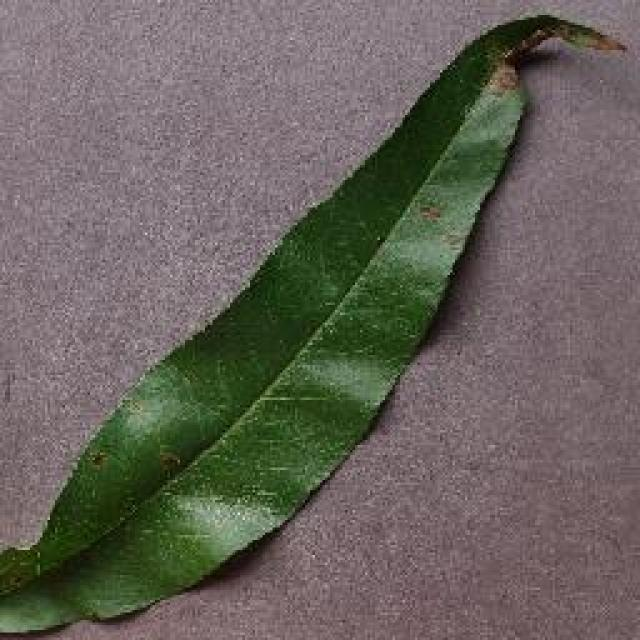Bacterial_spot: (486, 34, 550, 89), (82, 449, 134, 479)
